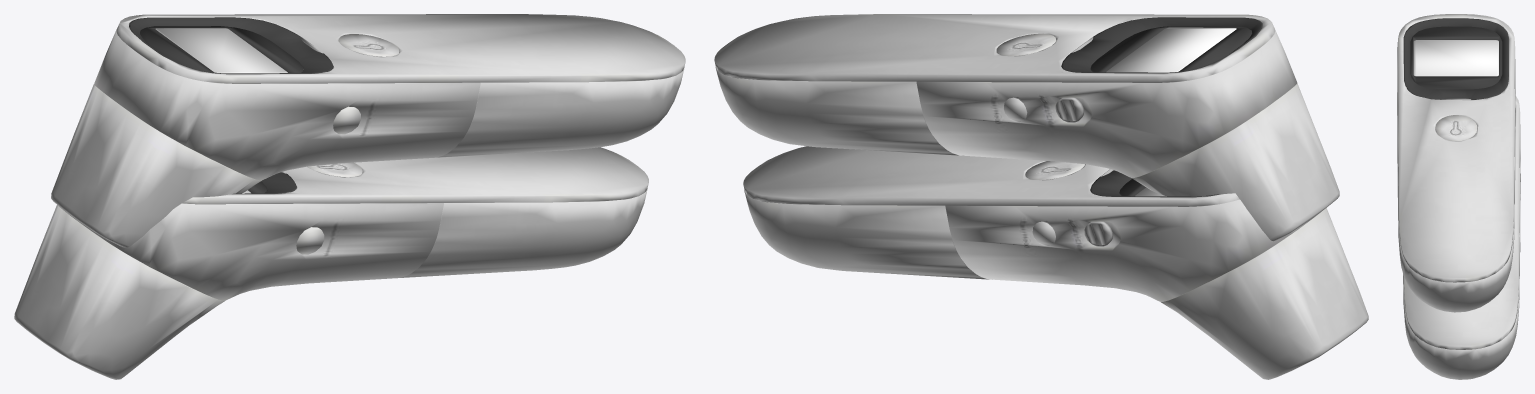
Rendered from thermometer_fever_a01.glb.
3 renders of one model, left to right at view 1: azimuth 30°, elevation 25°; view 2: azimuth 150°, elevation 25°; view 3: azimuth 270°, elevation 25°, orthographic. The views are drawn at different scales.
Visible parts, largest first — view 1: thermometer_01_mesh_00 (×2), thermometer_glass_01_mesh_00; view 2: thermometer_01_mesh_00 (×2), thermometer_glass_01_mesh_00; view 3: thermometer_01_mesh_00 (×2), thermometer_glass_01_mesh_00.
Boxes of the visible parts, x1,y1,x2,y2 form: thermometer_01_mesh_00 (×2): (14, 14, 685, 379); thermometer_glass_01_mesh_00: (155, 28, 287, 73); thermometer_01_mesh_00 (×2): (714, 14, 1368, 379); thermometer_glass_01_mesh_00: (1106, 27, 1236, 72); thermometer_01_mesh_00 (×2): (1397, 14, 1520, 379); thermometer_glass_01_mesh_00: (1413, 40, 1498, 76).
Bounding box in the file's own units: 0.1578 × 0.076 × 0.0391.
Materials: 5 (2 with a texture image).
